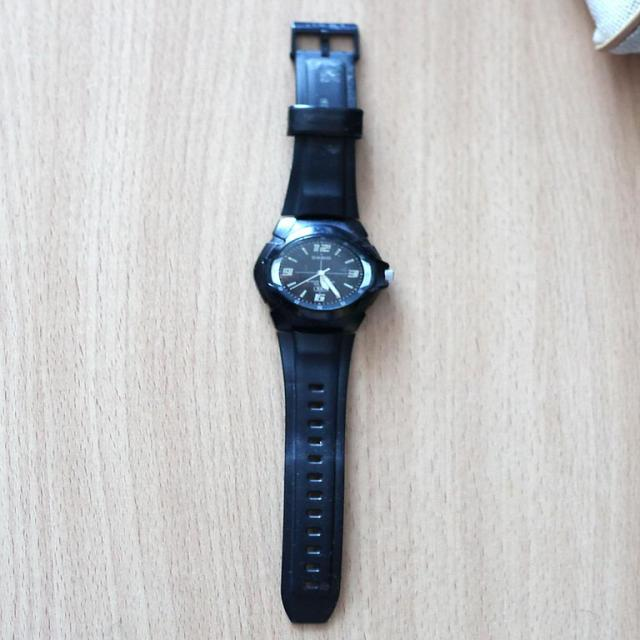Wrist watch: (251, 21, 395, 627)
